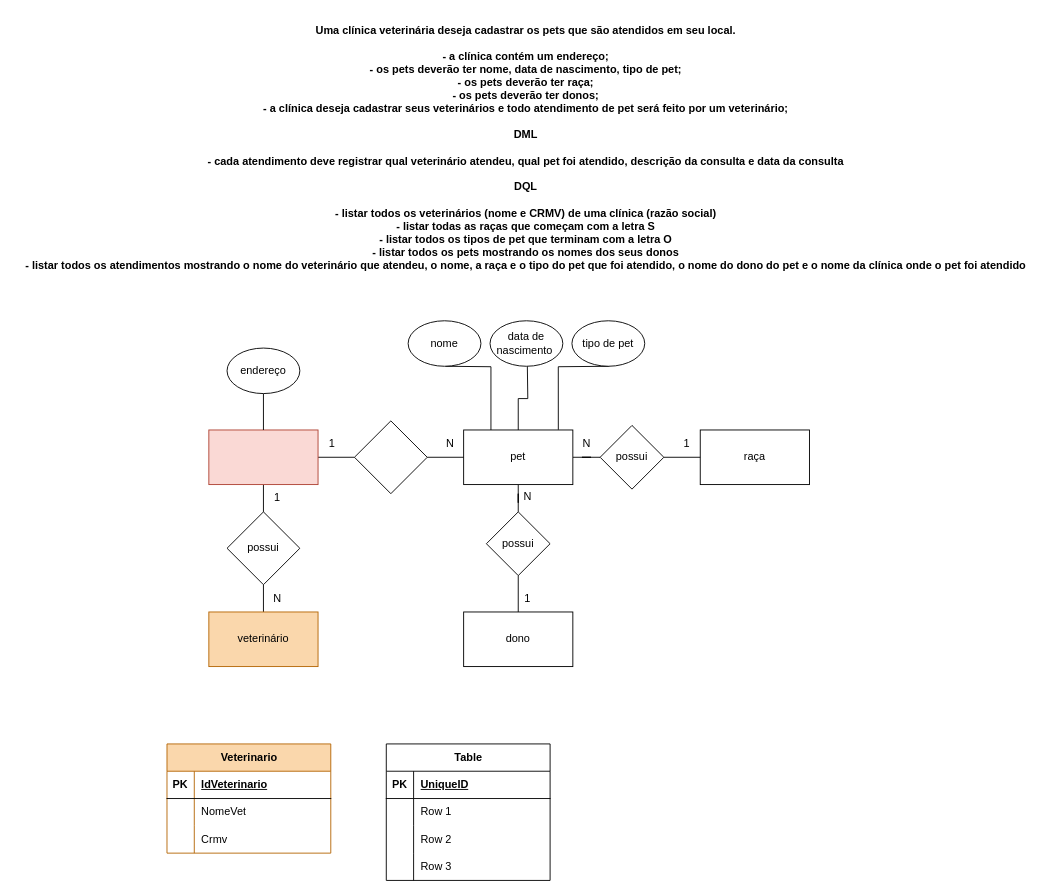
This 1050x896 diagram has some shape labels left out. Here are the shapes that lost their labels. From the top down, the centre of each, then its label:
At (263,457): "clínica".
At (390,457): "atende".
